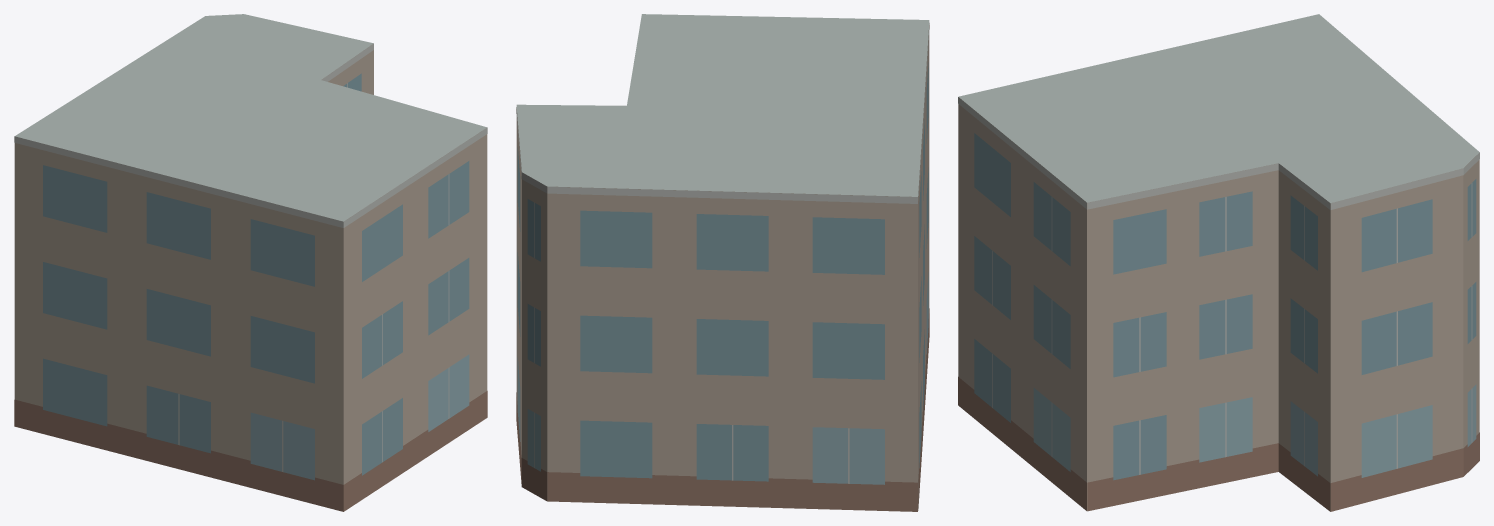
File: survey-upis-32778282.glb
The picture shows the model from 3 angles, left to right: view 1: azimuth 30°, elevation 25°; view 2: azimuth 150°, elevation 25°; view 3: azimuth 270°, elevation 25°; orthographic projection. The views are drawn at different scales.
Visible parts, largest first — view 1: survey-upis-32778282.tmp; view 2: survey-upis-32778282.tmp; view 3: survey-upis-32778282.tmp.
Boxes of the visible parts, x1,y1,x2,y2 form: survey-upis-32778282.tmp: (14, 14, 487, 511); survey-upis-32778282.tmp: (516, 14, 929, 511); survey-upis-32778282.tmp: (958, 14, 1479, 511).
Bounding box in the file's own units: 14.29 × 10.86 × 16.65.
